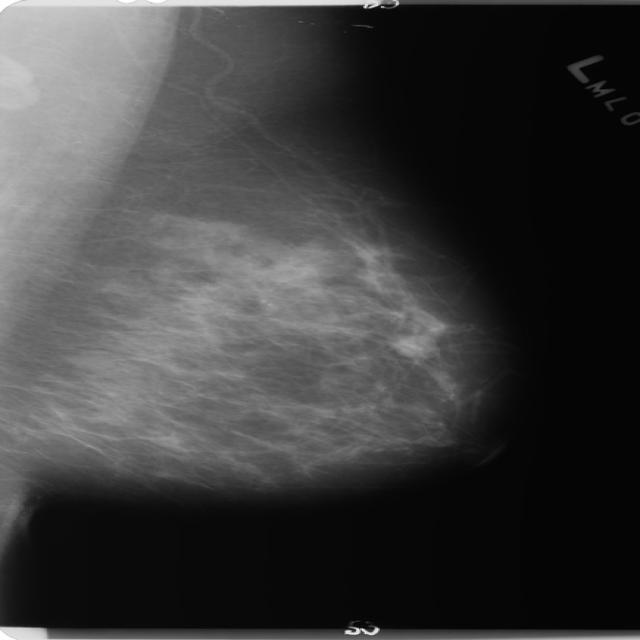tumour: (392, 333, 438, 358)
